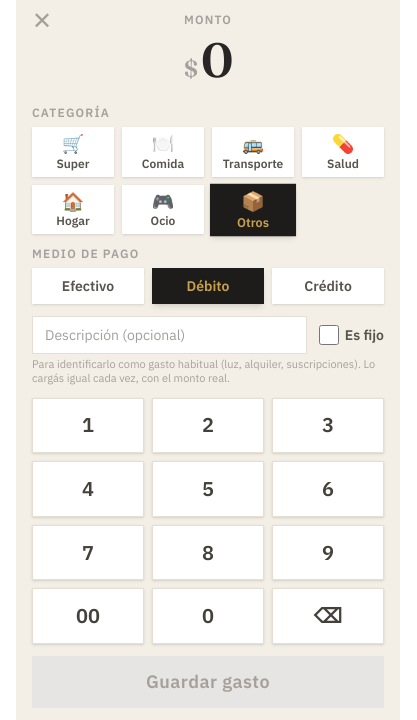
Test: Teclado numérico › tocar 1,5,0,0 muestra "1.500"
The image size is (417, 720).
Click the button "1": (88, 425) [32,398,144,453]
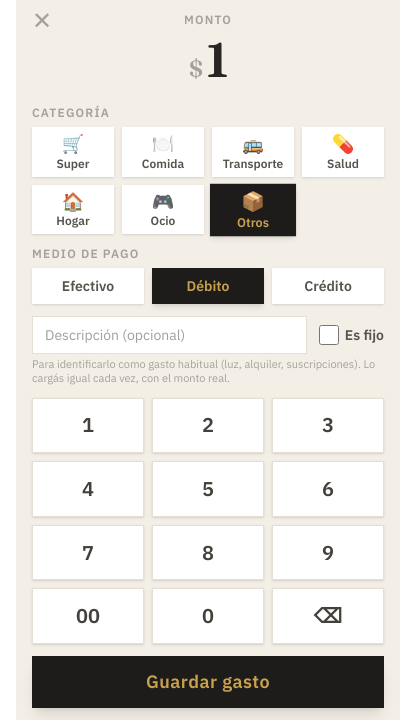
Click the button "5": (208, 489) [152,461,264,517]
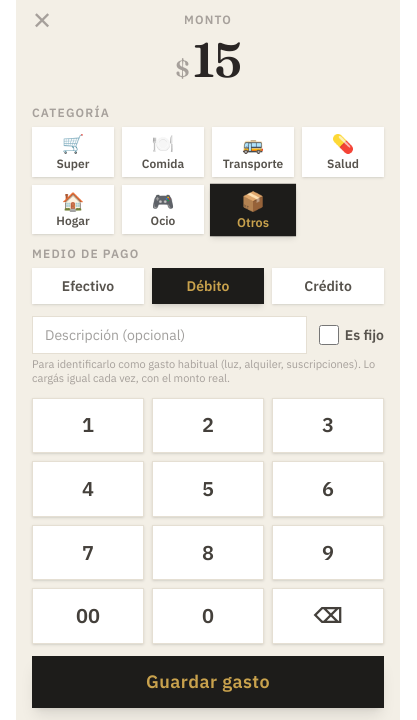
// el botón 0 aparece dos veces (dos clicks en la misma tecla)
Click the button with id "tecla-0": (208, 616) [152,588,264,644]
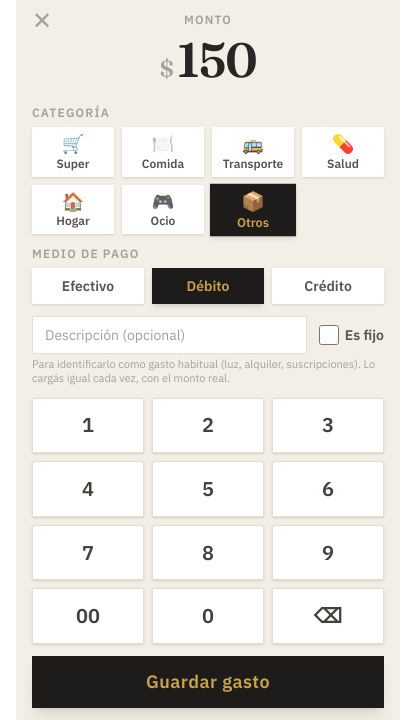
Click the button with id "tecla-0": (208, 616) [152,588,264,644]
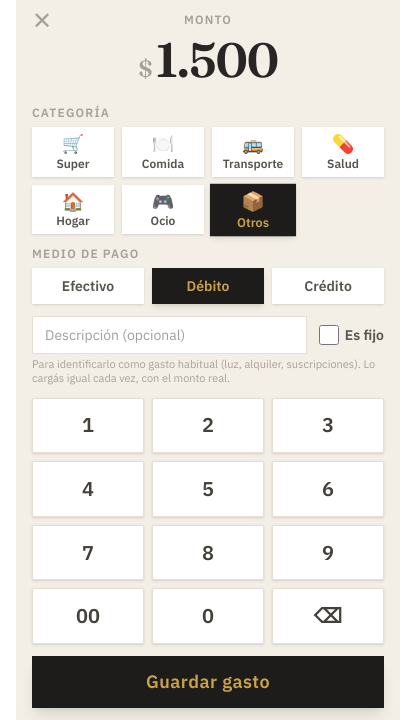
Now the text with id "display-monto-valor" reads "1.500", box [155,30,278,89]
